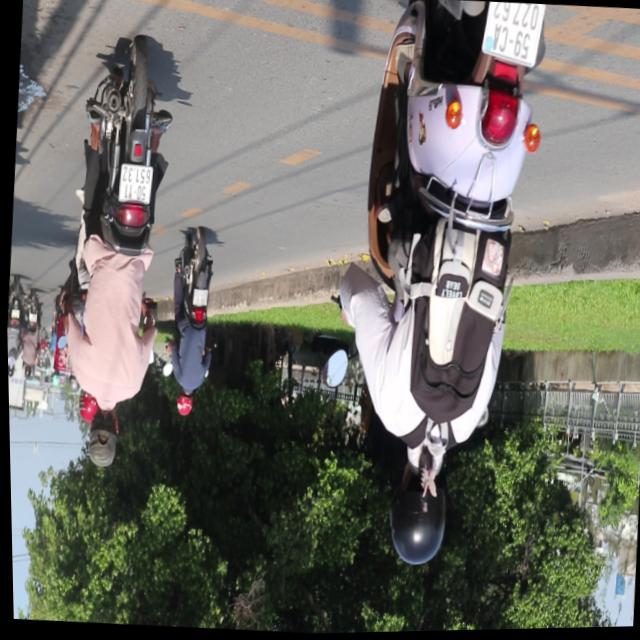helmet: (379, 447, 451, 570), (73, 391, 94, 423), (173, 391, 192, 418)
licenseplate: (312, 0, 563, 582), (45, 32, 185, 476), (158, 227, 220, 421)
motorcyclist: (81, 404, 120, 470)
nohelmet: (482, 3, 545, 68), (117, 165, 151, 204), (190, 289, 205, 306)
